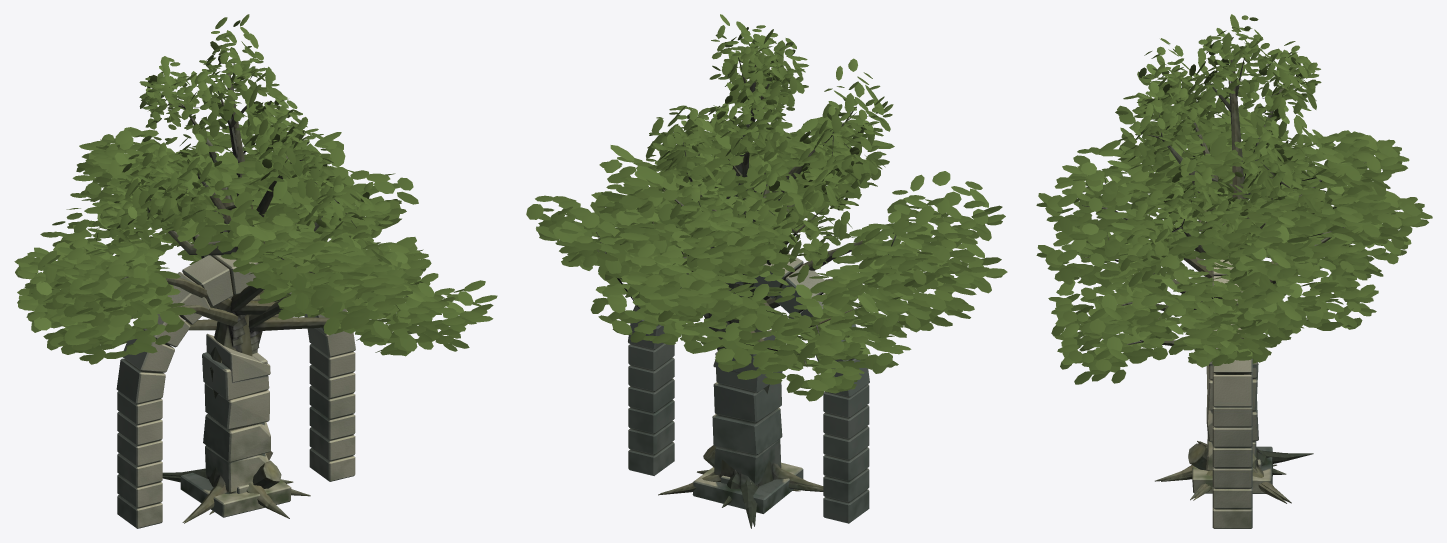
Rendered from archive-kit.glb.
3 renders of one model, left to right at view 1: azimuth 30°, elevation 25°; view 2: azimuth 150°, elevation 25°; view 3: azimuth 270°, elevation 25°, orthographic. The views are drawn at different scales.
Parts seen in each view (by area): view 1: Tree_Leaves, Tree_Leaning_Leaves, Tree_Tall_Leaves, Arch_Ruin, Column_Broken, Tree_Broadleaf, Tree_Leaning, Tree_Tall, Root_1; view 2: Tree_Leaves, Tree_Leaning_Leaves, Tree_Tall_Leaves, Arch_Ruin, Column_Broken, Tree_Broadleaf, Tree_Tall, Tree_Leaning; view 3: Tree_Leaning_Leaves, Tree_Leaves, Tree_Tall_Leaves, Arch_Ruin, Column_Broken, Tree_Tall, Tree_Broadleaf, Tree_Leaning.
Boxes of the visible parts, <box> form: Tree_Leaves: <box>14,118,456,344</box>; Tree_Leaning_Leaves: <box>17,132,497,364</box>; Tree_Tall_Leaves: <box>100,14,392,264</box>; Arch_Ruin: <box>116,255,355,528</box>; Column_Broken: <box>180,333,291,517</box>; Tree_Broadleaf: <box>95,187,399,523</box>; Tree_Leaning: <box>131,223,407,522</box>; Tree_Tall: <box>147,63,356,487</box>; Root_1: <box>252,460,281,488</box>; Tree_Leaves: <box>595,116,1005,373</box>; Tree_Leaning_Leaves: <box>526,138,1007,401</box>; Tree_Tall_Leaves: <box>646,14,893,283</box>; Arch_Ruin: <box>628,252,869,523</box>; Column_Broken: <box>692,329,803,513</box>; Tree_Broadleaf: <box>652,159,942,528</box>; Tree_Tall: <box>683,57,856,486</box>; Tree_Leaning: <box>596,189,832,526</box>; Tree_Leaning_Leaves: <box>1036,144,1432,384</box>; Tree_Leaves: <box>1036,87,1409,349</box>; Tree_Tall_Leaves: <box>1118,14,1325,286</box>; Arch_Ruin: <box>1212,259,1252,528</box>; Column_Broken: <box>1192,361,1272,493</box>; Tree_Tall: <box>1147,57,1297,472</box>; Tree_Broadleaf: <box>1082,151,1366,503</box>; Tree_Leaning: <box>1084,217,1349,503</box>.
Size of what is drawn, in the model's own units: 9.79 by 10.92 by 8.45.
3 materials, 2 textured.
